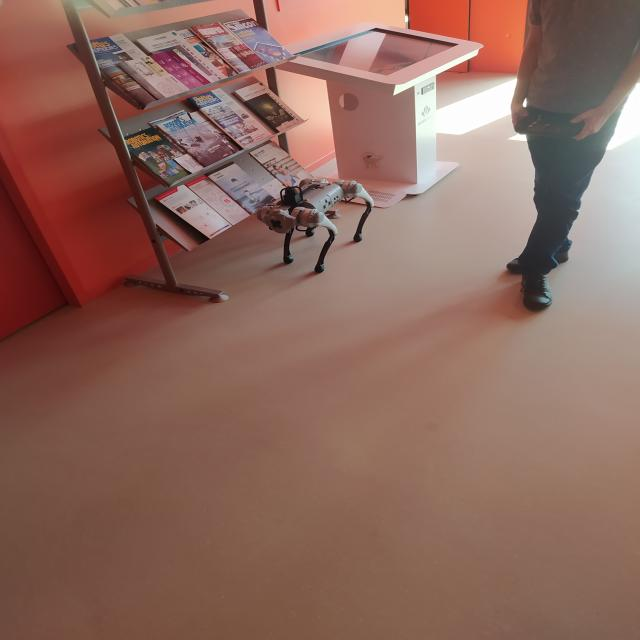unitree-go1-robot: (248, 167, 389, 289)
